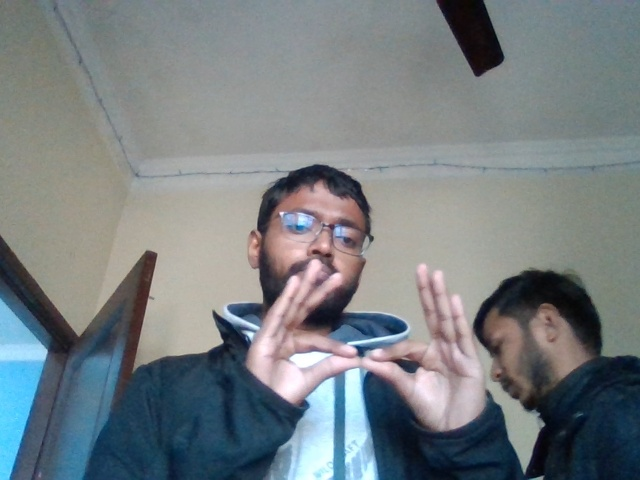family: (267, 263, 483, 432)
